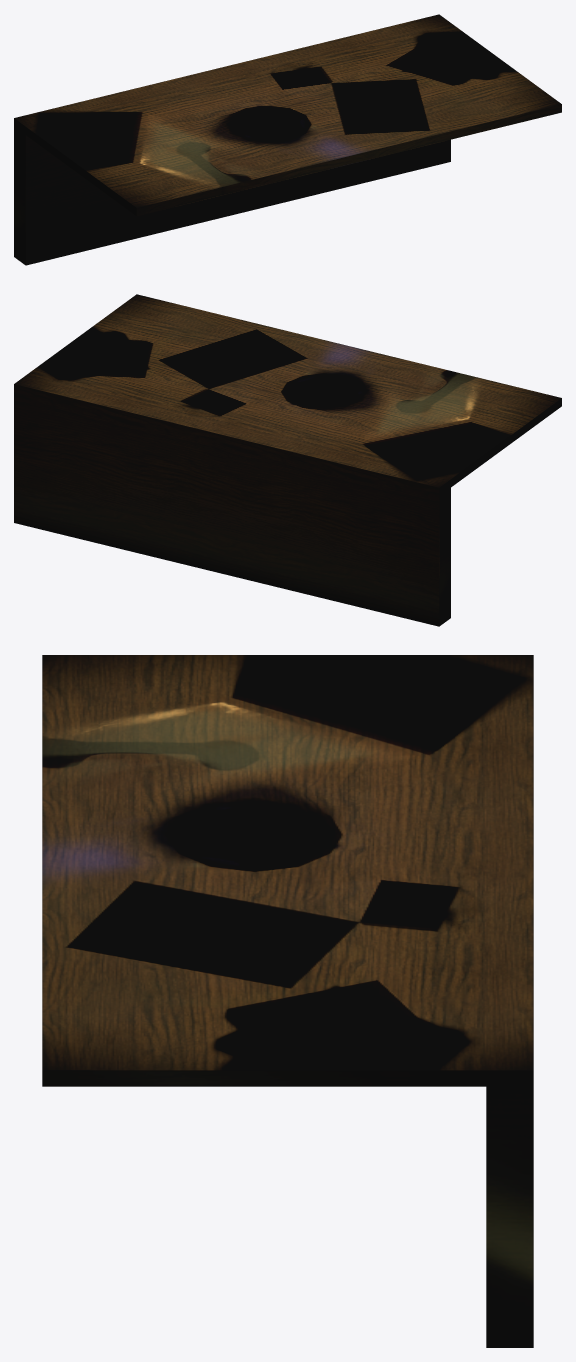
File: table.glb
3 views of the same model, one above another, from view 1: azimuth 30°, elevation 25°; view 2: azimuth 150°, elevation 25°; view 3: azimuth 270°, elevation 25° (orthographic). The views are drawn at different scales.
Visible parts, largest first — view 1: Table; view 2: Table; view 3: Table.
Boxes of the visible parts, x1=… form: Table: x1=14, y1=14, x2=561, y2=265; Table: x1=14, y1=294, x2=561, y2=626; Table: x1=42, y1=655, x2=533, y2=1347.
Bounding box in the file's own units: 1.2 × 0.3744 × 0.6.
1 material, 1 textured.
